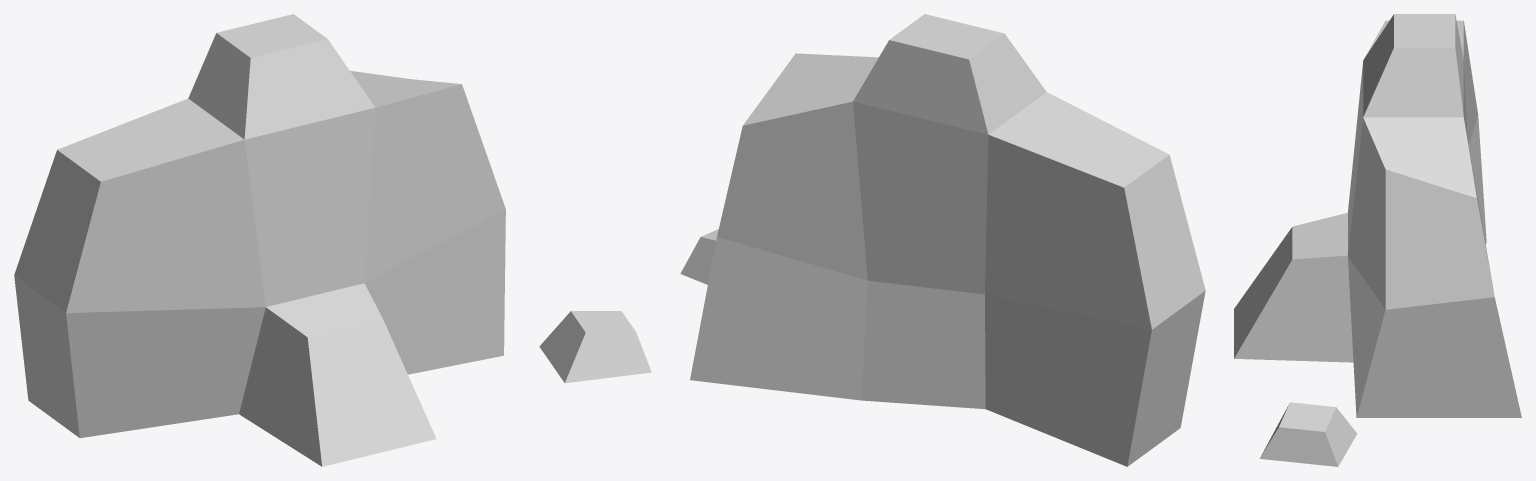
File: obj_rock_backside2.fbx
3 renders of one model, left to right at view 1: azimuth 30°, elevation 25°; view 2: azimuth 150°, elevation 25°; view 3: azimuth 270°, elevation 25°, orthographic. The views are drawn at different scales.
Parts seen in each view (by area): view 1: obj_rock_backside2; view 2: obj_rock_backside2; view 3: obj_rock_backside2.
Boxes of the visible parts, x1=… form: obj_rock_backside2: x1=14, y1=14, x2=651, y2=466; obj_rock_backside2: x1=680, y1=14, x2=1205, y2=466; obj_rock_backside2: x1=1234, y1=14, x2=1521, y2=466.
Bounding box in the file's own units: 7.03 × 4.27 × 3.68.
Materials: 1 (1 with a texture image).
